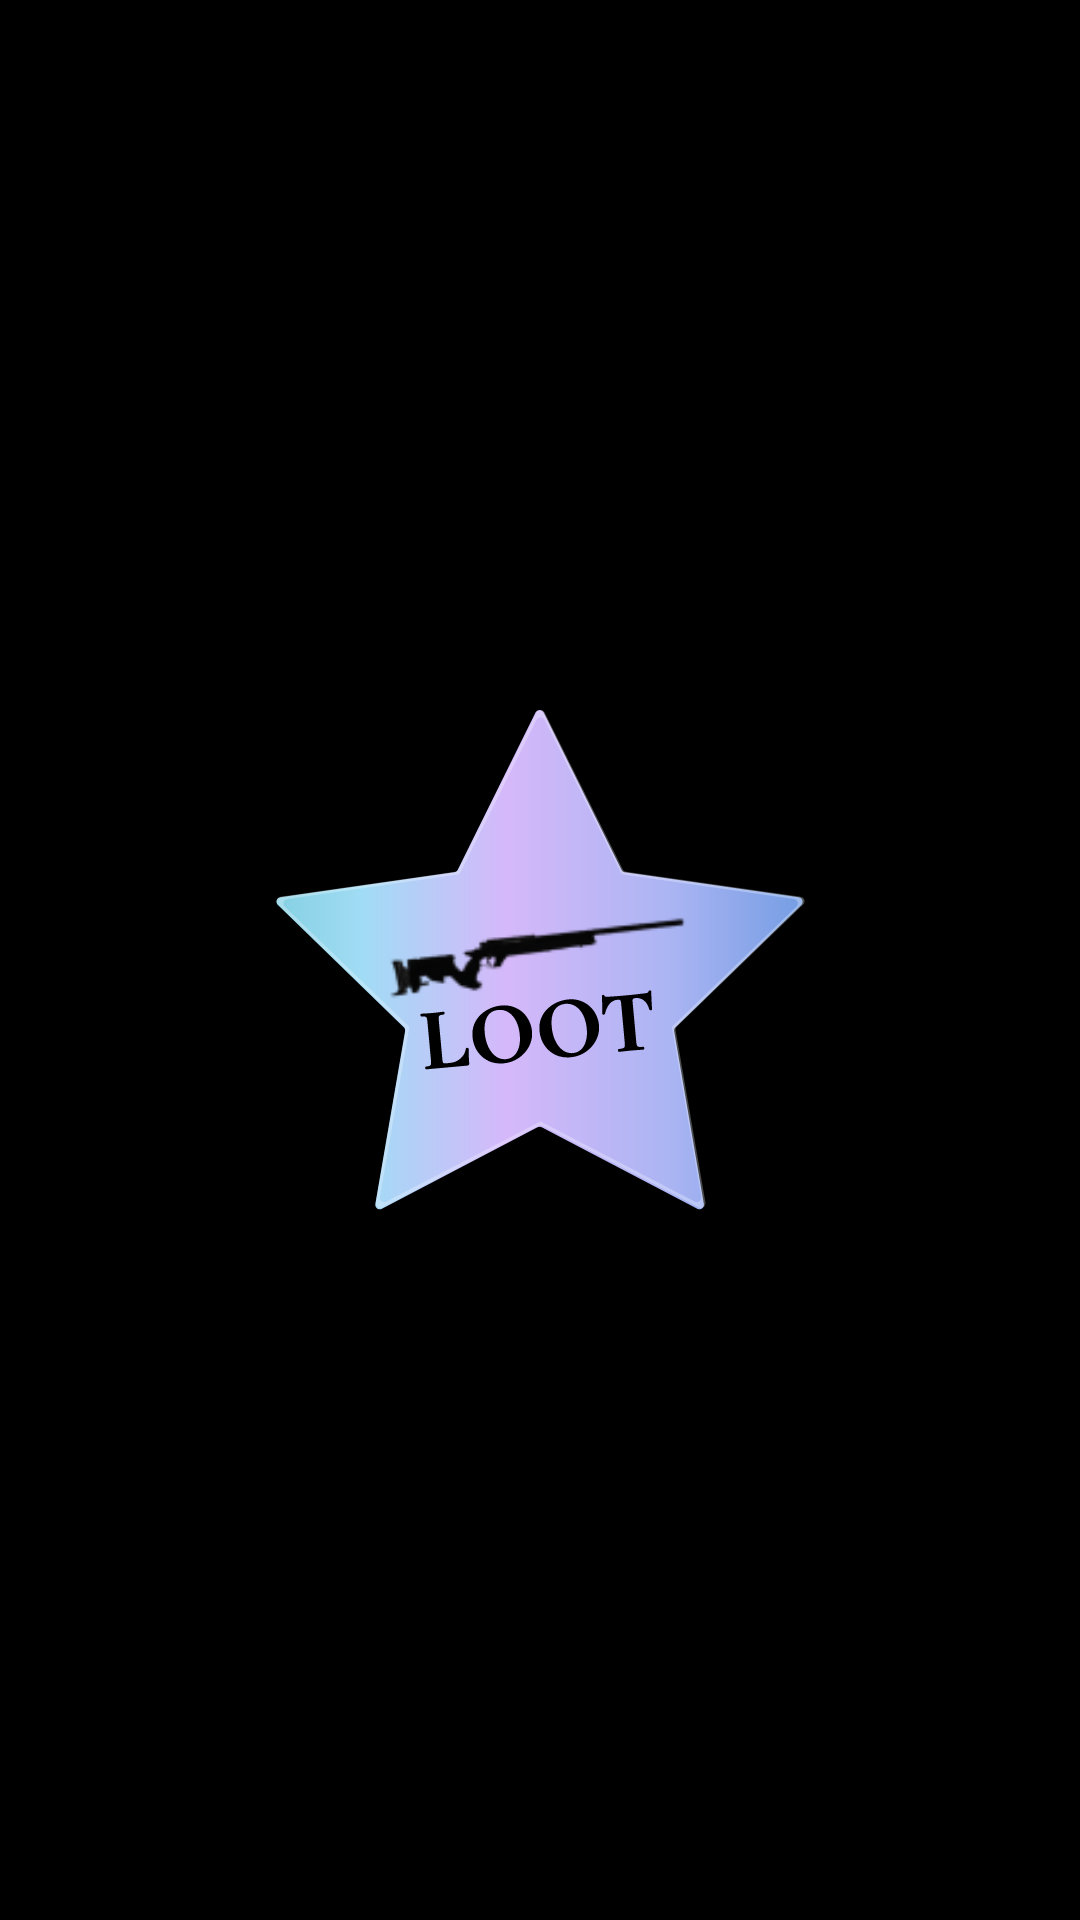

Named icons in this screenshot (1080px x 1920px) and their centers, (x=x, y=y):
gun: (x=540, y=960)
